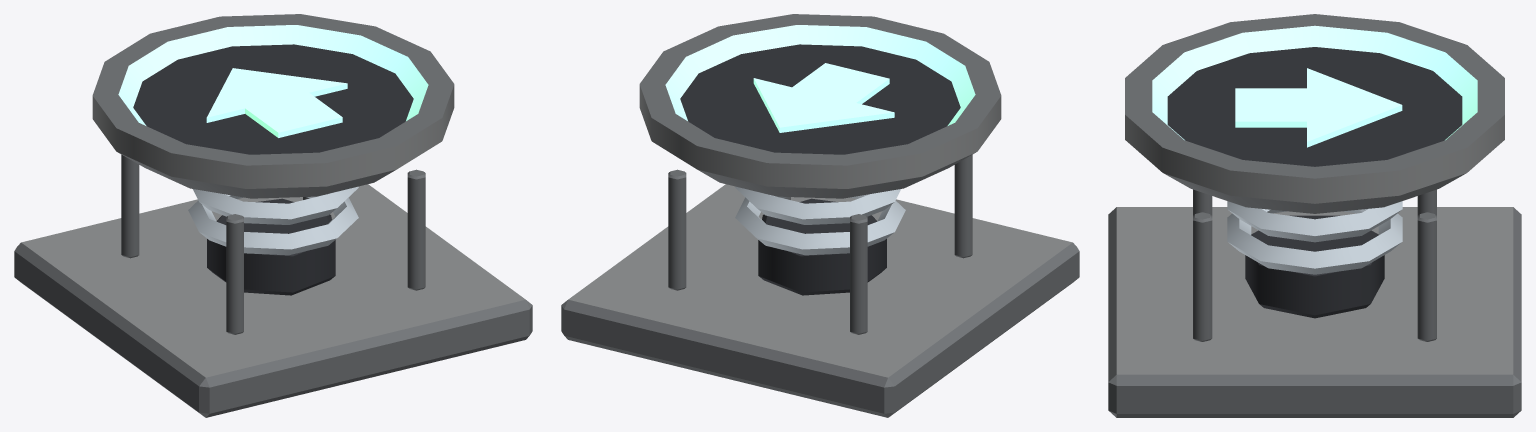
Rendered from R4X_JumpPadDeployer_LOD1.glb.
3 views of the same model, side by side, from view 1: azimuth 30°, elevation 25°; view 2: azimuth 150°, elevation 25°; view 3: azimuth 270°, elevation 25° (orthographic). The views are drawn at different scales.
Parts seen in each view (by area): view 1: R4X_JumpPadDeployer_LOD1; view 2: R4X_JumpPadDeployer_LOD1; view 3: R4X_JumpPadDeployer_LOD1.
Part boxes in pixels (bbox=[...]): R4X_JumpPadDeployer_LOD1: bbox=[14, 14, 532, 417]; R4X_JumpPadDeployer_LOD1: bbox=[561, 14, 1079, 417]; R4X_JumpPadDeployer_LOD1: bbox=[1108, 14, 1521, 417].
Size of the model in its own units: 0.52 by 0.33 by 0.52.
